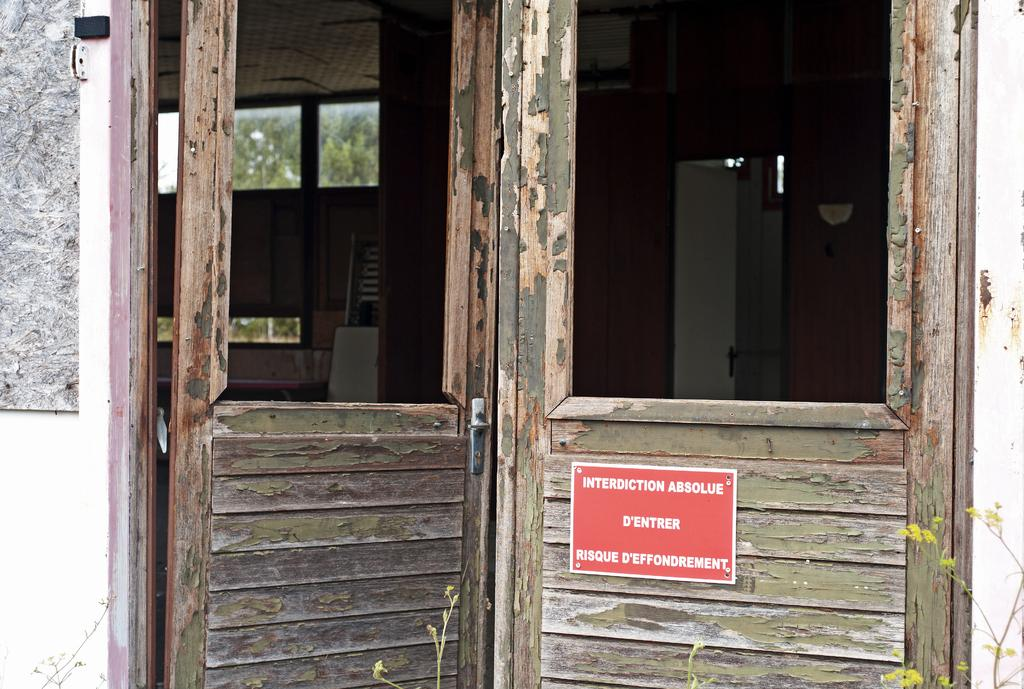handle: (468, 418, 490, 439)
